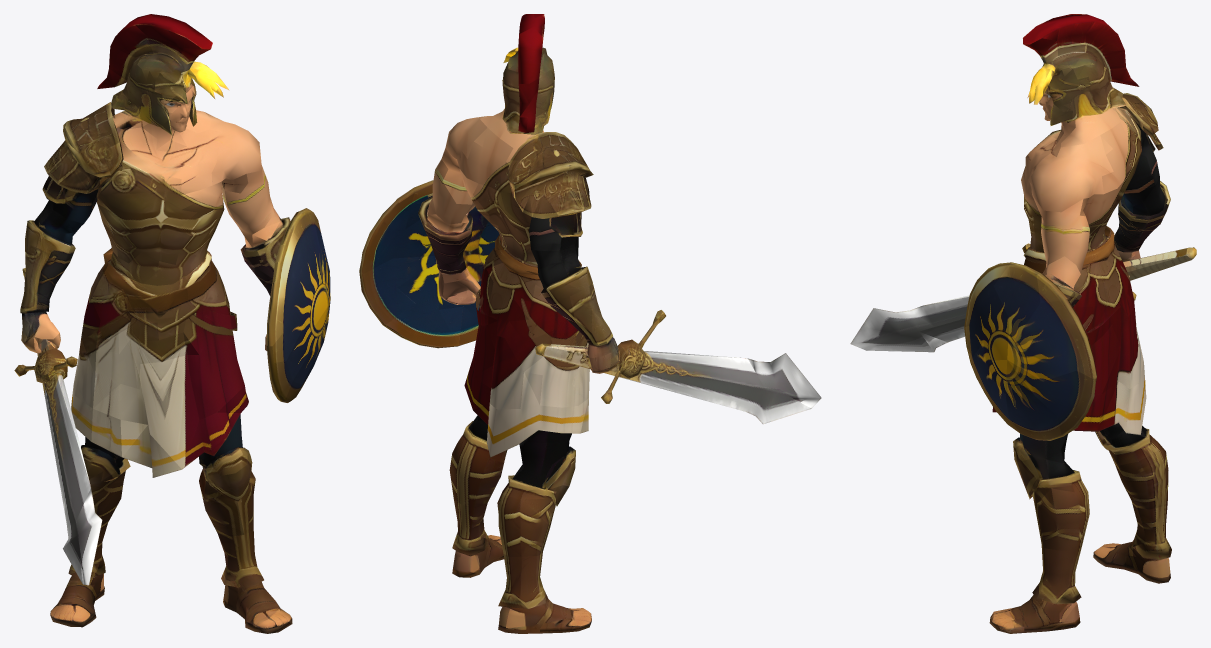
Rendered from Meshy_AI_Spartan_of_the_Sun_0809102017_texture.glb.
3 renders of one model, left to right at view 1: azimuth 30°, elevation 25°; view 2: azimuth 150°, elevation 25°; view 3: azimuth 270°, elevation 25°, orthographic. The views are drawn at different scales.
Visible parts, largest first — view 1: mesh_node; view 2: mesh_node; view 3: mesh_node.
Part boxes in pixels (x1=…): mesh_node: x1=14, y1=14, x2=330, y2=633; mesh_node: x1=359, y1=14, x2=821, y2=633; mesh_node: x1=850, y1=14, x2=1196, y2=633.
Size of the model in its own units: 0.6309 by 1 by 0.5508.
Materials: 1 (1 with a texture image).
